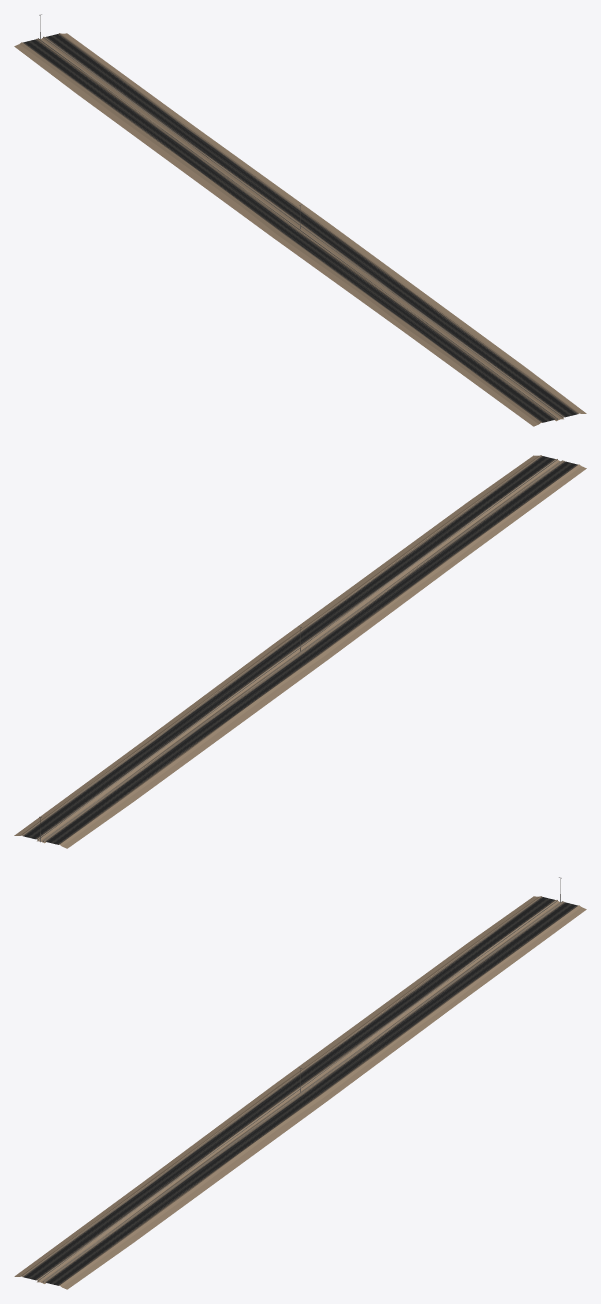
File: SM_Env_Road_01_17.fbx
3 renders of one model, top to bottom at view 1: azimuth 30°, elevation 25°; view 2: azimuth 150°, elevation 25°; view 3: azimuth 330°, elevation 25°, orthographic.
Parts seen in each view (by area): view 1: SM_Env_Road_01__1_, SM_Env_Road_01__17_, SM_Env_Road_Edge_01__1_, SM_Env_Road_Edge_01; view 2: SM_Env_Road_01__1_, SM_Env_Road_01__17_, SM_Env_Road_Edge_01__1_, SM_Env_Road_Edge_01; view 3: SM_Env_Road_01__17_, SM_Env_Road_01__1_, SM_Env_Road_Edge_01__1_, SM_Env_Road_Edge_01.
Part boxes in pixels (x1,y1,x2,y2): SM_Env_Road_01__1_: [14, 38, 563, 426]; SM_Env_Road_01__17_: [41, 33, 586, 421]; SM_Env_Road_Edge_01__1_: [43, 36, 563, 418]; SM_Env_Road_Edge_01: [38, 38, 557, 419]; SM_Env_Road_01__1_: [37, 460, 586, 848]; SM_Env_Road_01__17_: [14, 455, 559, 843]; SM_Env_Road_Edge_01__1_: [37, 459, 557, 840]; SM_Env_Road_Edge_01: [43, 460, 562, 841]; SM_Env_Road_01__17_: [37, 901, 586, 1289]; SM_Env_Road_01__1_: [14, 896, 559, 1283]; SM_Env_Road_Edge_01__1_: [43, 901, 563, 1282]; SM_Env_Road_Edge_01: [37, 900, 557, 1281].
Bounding box in the file's own units: 2537 × 1072 × 40015.
